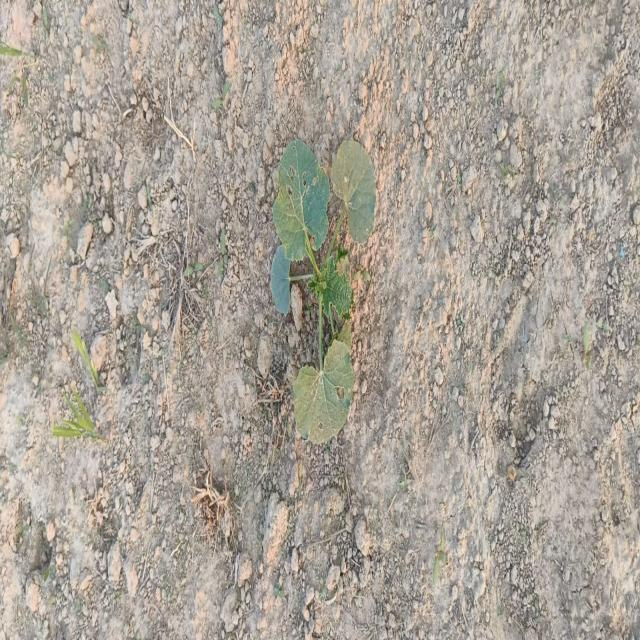plant: (271, 137, 376, 443)
